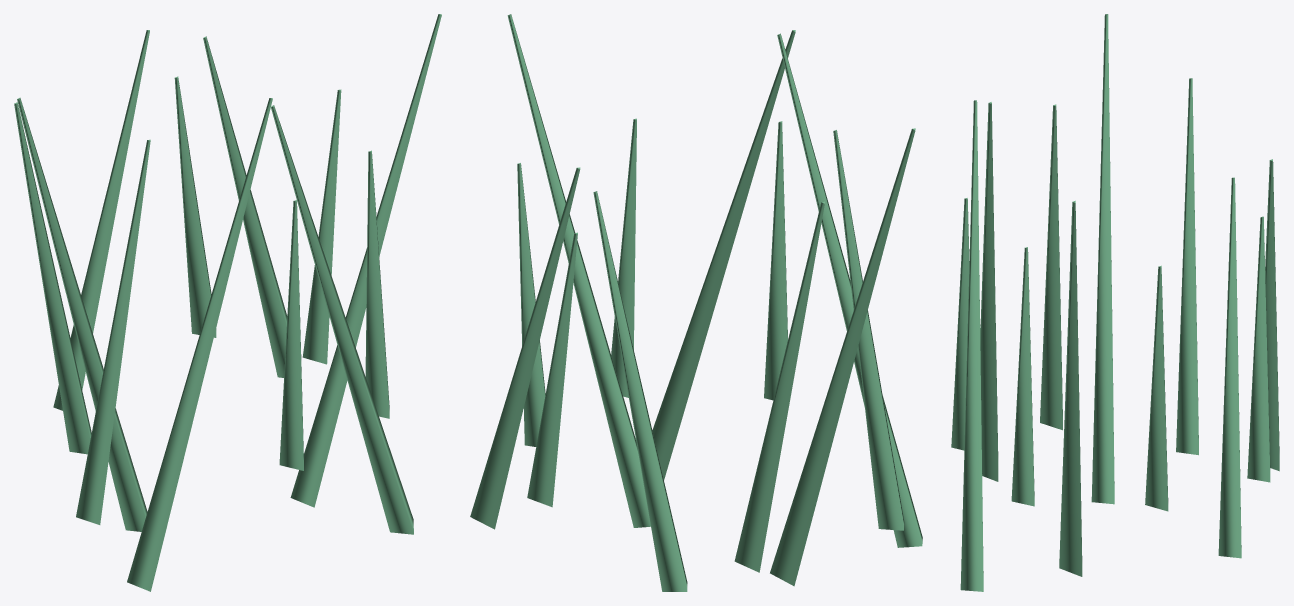
File: discovery-seagrass.glb
3 renders of one model, left to right at view 1: azimuth 30°, elevation 25°; view 2: azimuth 150°, elevation 25°; view 3: azimuth 270°, elevation 25°, orthographic. The views are drawn at different scales.
Visible parts, largest first — view 1: ribbon-seagrass (×12); view 2: ribbon-seagrass (×12); view 3: ribbon-seagrass (×12).
Part boxes in pixels (<box>): ribbon-seagrass (×12): <box>14,14,441,591</box>; ribbon-seagrass (×12): <box>470,14,922,591</box>; ribbon-seagrass (×12): <box>951,14,1279,591</box>.
Bounding box in the file's own units: 4.03 × 4.37 × 2.99.
